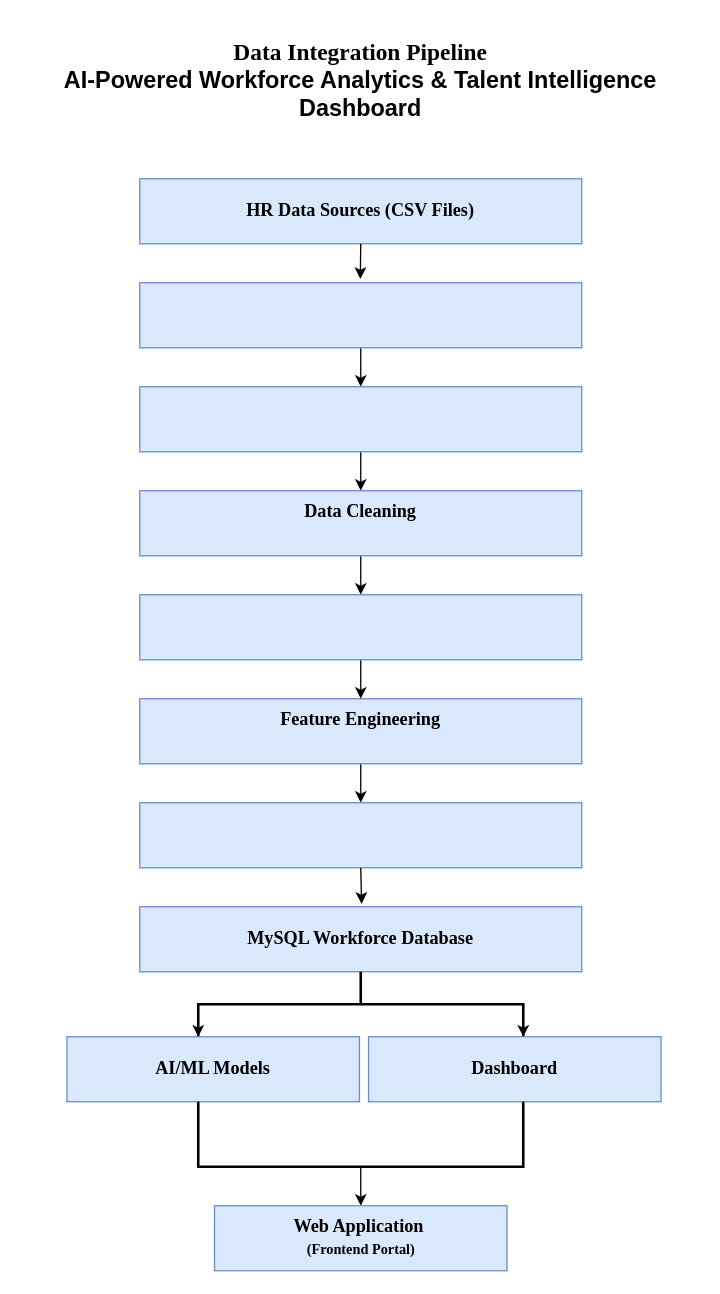
This 720x1294 diagram has some shape labels left out. The box of each missing label's shape, as (x1, y1, x2, y2) in pixels:
Data Transformation: (138, 593, 582, 660)
Data Validation: (138, 385, 582, 452)
Load Dataset (Pandas): (138, 281, 582, 348)
Processed Workforce Dataset: (138, 801, 582, 868)
